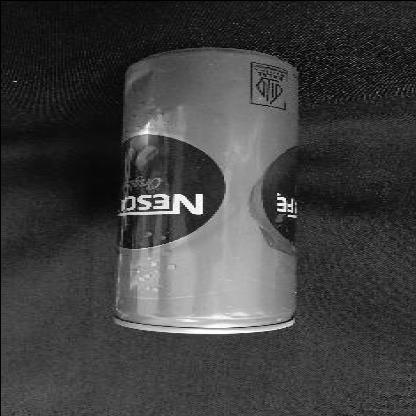alumunium_can: (112, 46, 300, 333)
